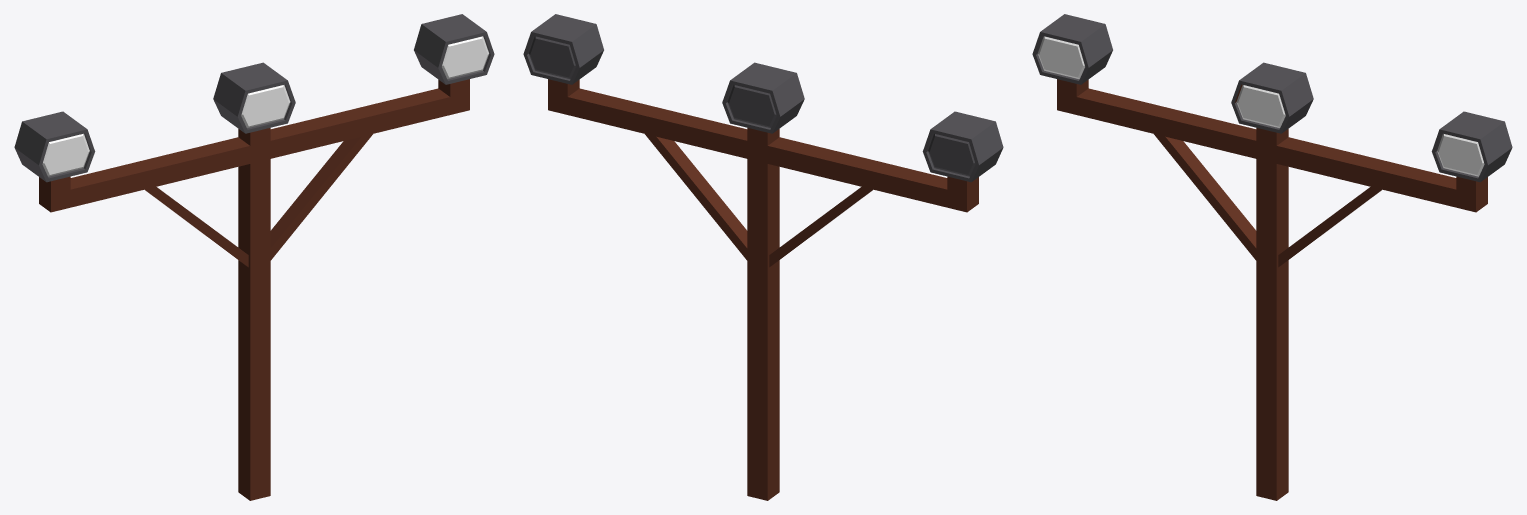
Rendered from SM_Light_03.glb.
3 views of the same model, side by side, from view 1: azimuth 30°, elevation 25°; view 2: azimuth 150°, elevation 25°; view 3: azimuth 330°, elevation 25° (orthographic).
Parts seen in each view (by area): view 1: SM_Light_03; view 2: SM_Light_03; view 3: SM_Light_03.
Boxes of the visible parts, x1,y1,x2,y2 form: SM_Light_03: (14,14,494,500); SM_Light_03: (523,14,1003,500); SM_Light_03: (1032,14,1512,500).
Bounding box in the file's own units: 1.89 × 1.66 × 0.1759.
2 materials, 1 textured.
